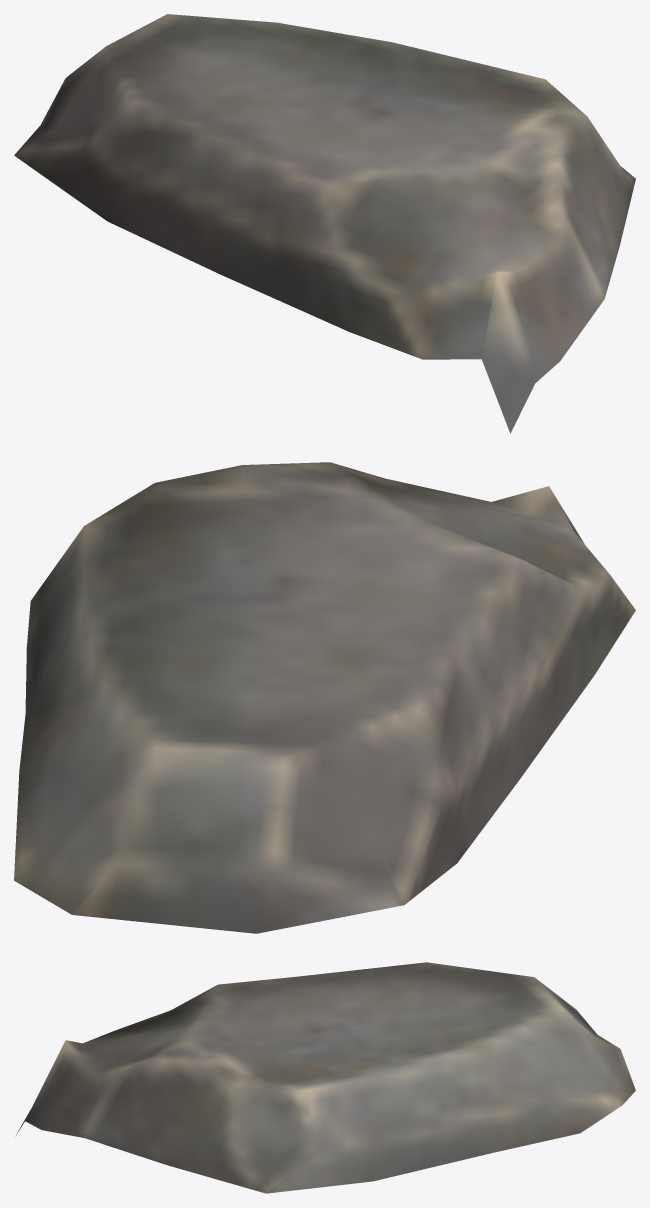
The model's file is Rock_A23.fbx.
3 views of the same model, one above another, from view 1: azimuth 30°, elevation 25°; view 2: azimuth 150°, elevation 25°; view 3: azimuth 270°, elevation 25° (orthographic). The views are drawn at different scales.
Visible parts, largest first — view 1: Rock_A23__1_; view 2: Rock_A23__1_; view 3: Rock_A23__1_.
Boxes of the visible parts, x1,y1,x2,y2 form: Rock_A23__1_: [14, 14, 635, 433]; Rock_A23__1_: [14, 462, 635, 933]; Rock_A23__1_: [16, 962, 635, 1193].
Bounding box in the file's own units: 0.1419 × 0.0523 × 0.2132.
Materials: 1 (1 with a texture image).
